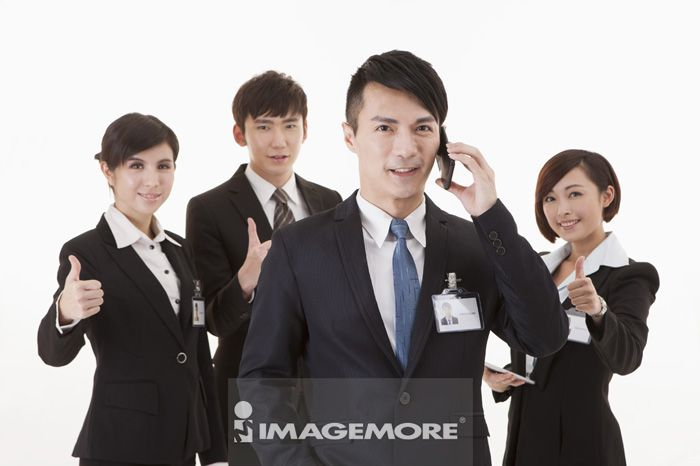phone: (436, 126, 455, 191)
talk: (363, 108, 489, 214)
